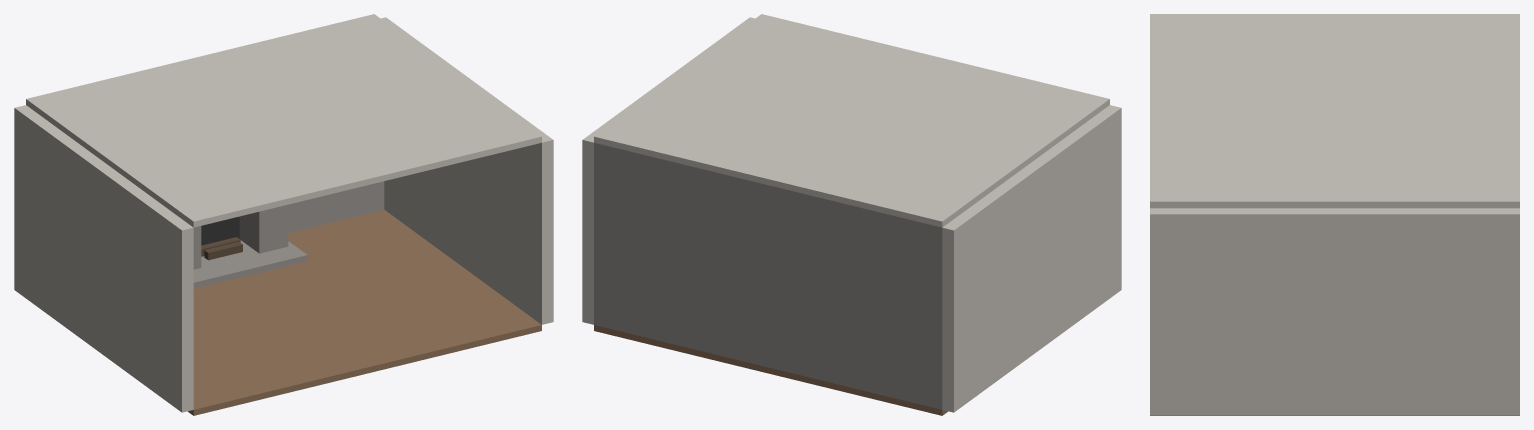
File: fire_fixture.gltf
3 views of the same model, side by side, from view 1: azimuth 30°, elevation 25°; view 2: azimuth 150°, elevation 25°; view 3: azimuth 270°, elevation 25° (orthographic). The views are drawn at different scales.
Parts seen in each view (by area): view 1: ceiling, floor, wall_left, wall_right, wall_back, hearthstone, jamb_right, firebox_back; view 2: wall_back, ceiling, wall_left, wall_right, floor; view 3: wall_right, ceiling, floor.
Boxes of the visible parts, <box> form: ceiling: <box>26,14,541,227</box>; floor: <box>188,209,541,415</box>; wall_left: <box>14,105,193,412</box>; wall_right: <box>381,17,553,324</box>; wall_back: <box>288,181,384,232</box>; hearthstone: <box>193,240,307,288</box>; jamb_right: <box>239,204,288,253</box>; firebox_back: <box>201,216,239,245</box>; wall_back: <box>594,142,942,409</box>; ceiling: <box>594,14,1109,227</box>; wall_left: <box>942,105,1121,412</box>; wall_right: <box>582,17,754,324</box>; floor: <box>594,325,947,415</box>; wall_right: <box>1150,208,1519,415</box>; ceiling: <box>1150,14,1519,208</box>; floor: <box>1150,415,1519,415</box>.
Size of the model in its own units: 6.4 by 3.2 by 5.
